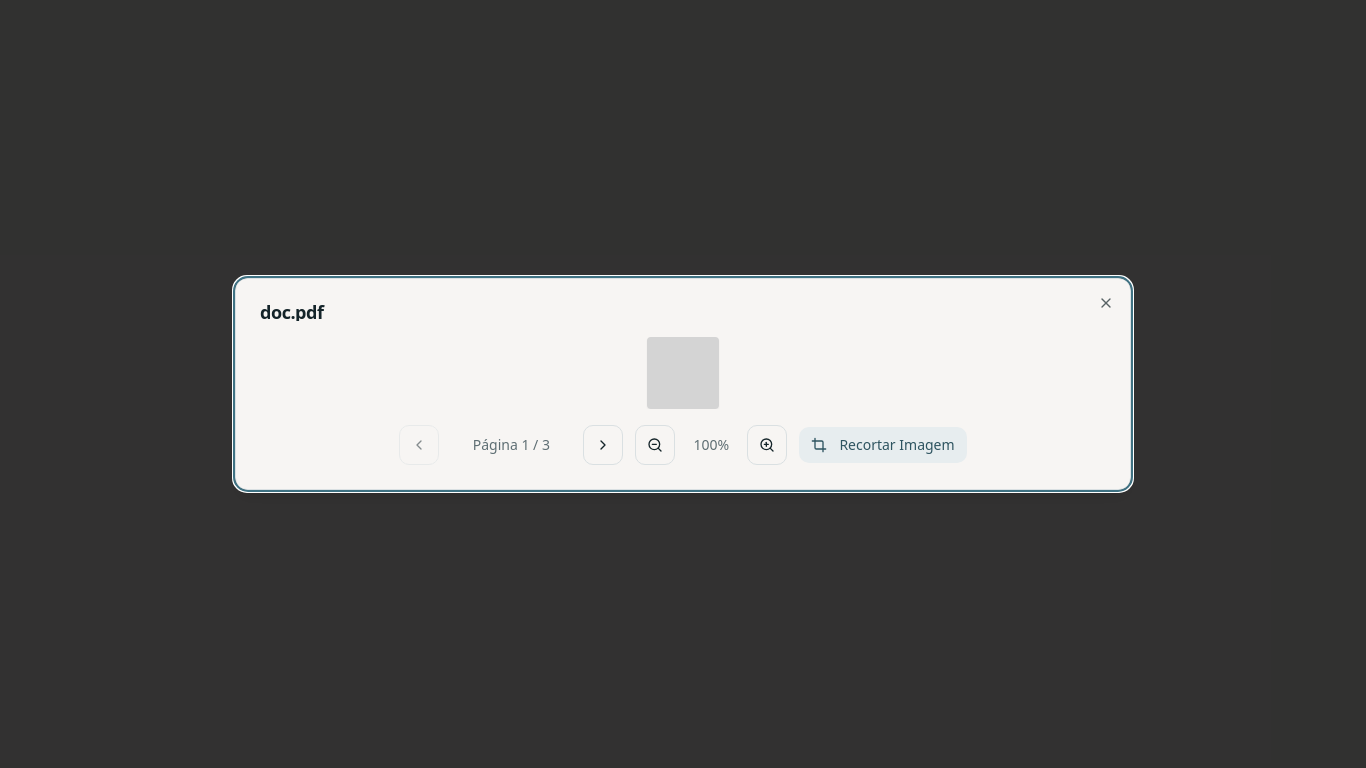
PdfPreviewModal (forms) › entering crop mode shows the drag-hint text
Click the button "Recortar Imagem".
click(883, 445)  # box [799,427,967,463]
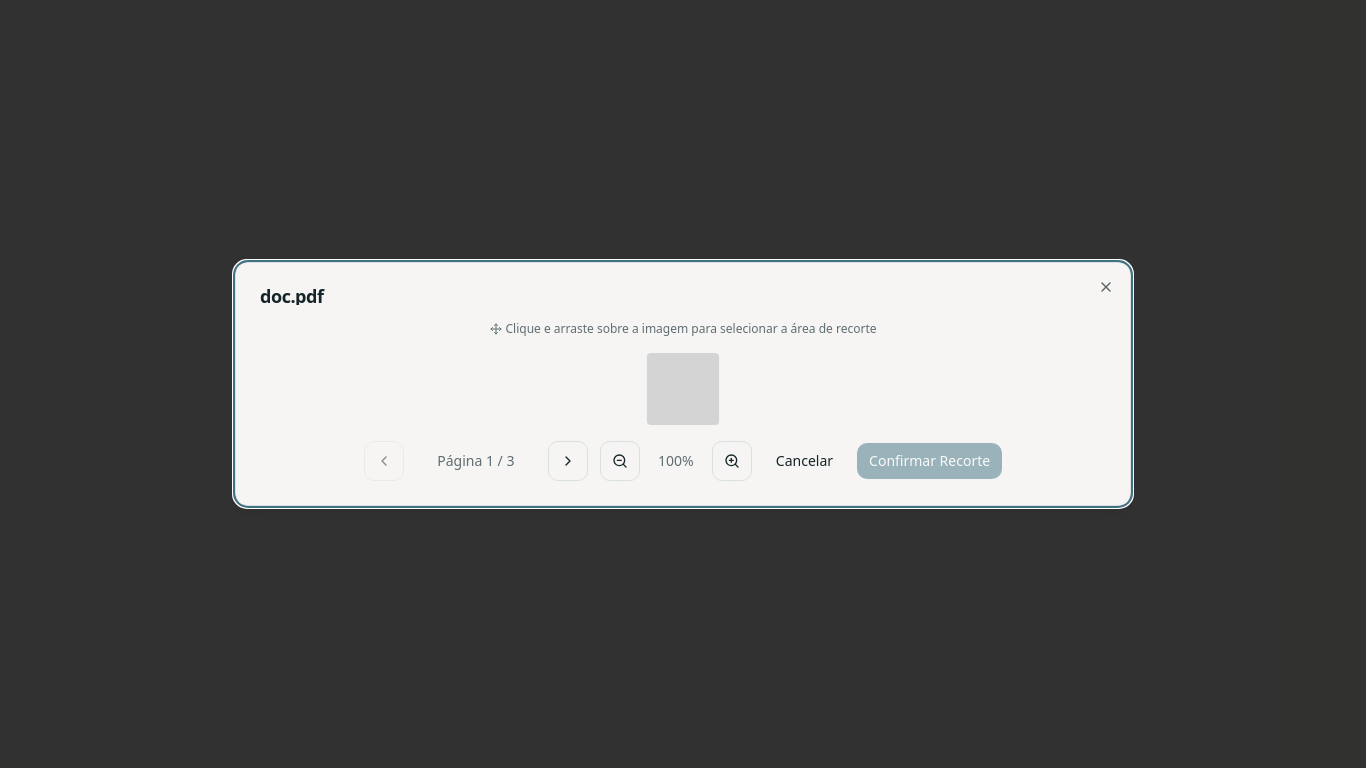
Check: the text "Clique e arraste" is shown, box [506,320,876,337]
